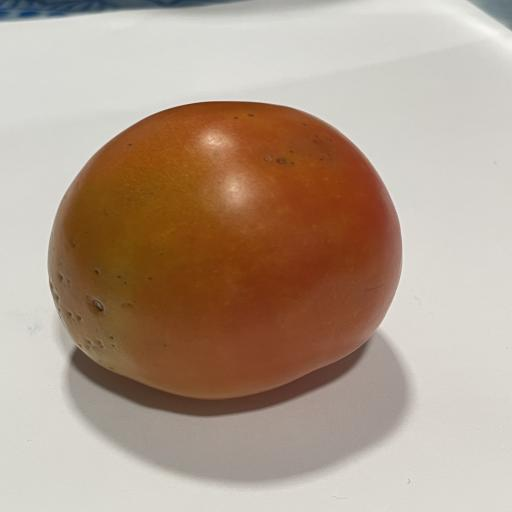unripe: (48, 102, 401, 399)
